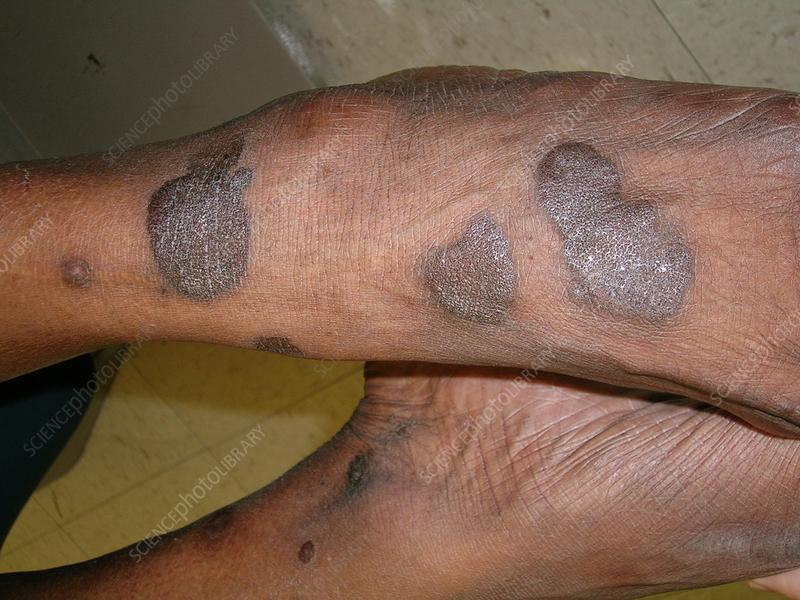hypertrophic lichen planus: (137, 129, 717, 354)
